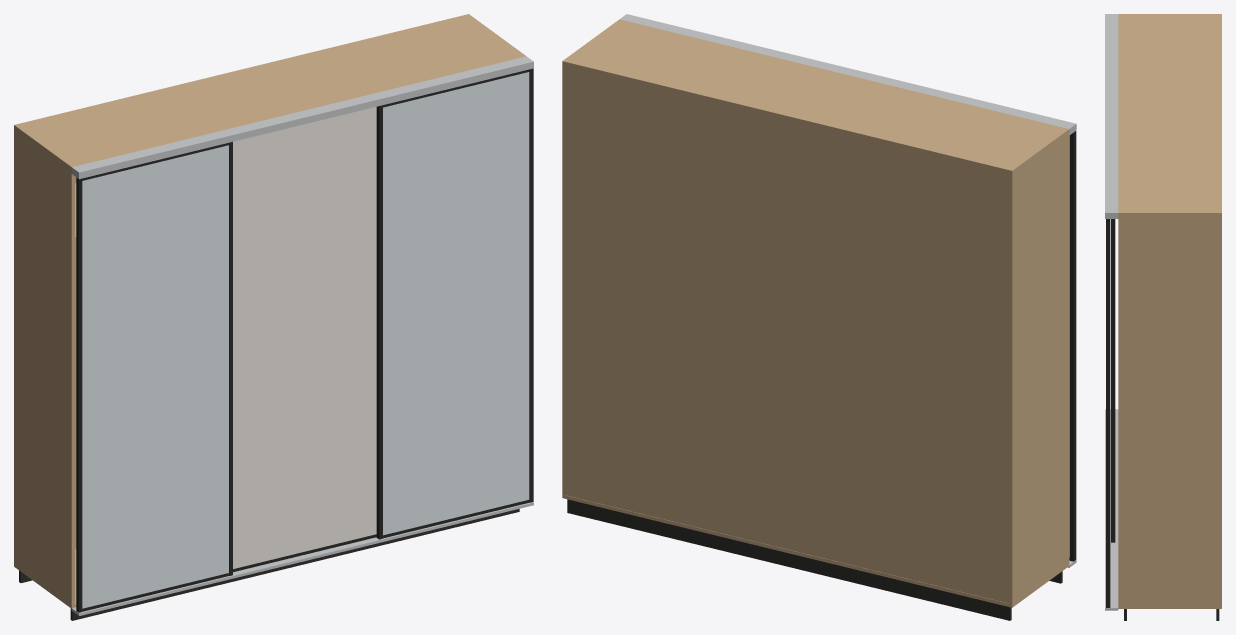
File: 13_szafa_przesuwna_250_lustra.glb
3 views of the same model, side by side, from view 1: azimuth 30°, elevation 25°; view 2: azimuth 150°, elevation 25°; view 3: azimuth 270°, elevation 25° (orthographic). The views are drawn at different scales.
Visible parts, largest first — view 1: Lustro_1, Lustro_3, Front_panel_2, Korpus, Uchwyty, Prowadnice, Cokol; view 2: Korpus, Cokol, Prowadnice, Uchwyty; view 3: Korpus, Prowadnice, Uchwyty.
Boxes of the visible parts, x1=… form: Lustro_1: x1=82, y1=145, x2=228, y2=608; Lustro_3: x1=383, y1=72, x2=529, y2=535; Front_panel_2: x1=233, y1=107, x2=376, y2=568; Korpus: x1=14, y1=14, x2=525, y2=608; Uchwyty: x1=76, y1=68, x2=533, y2=612; Prowadnice: x1=71, y1=56, x2=533, y2=615; Cokol: x1=19, y1=509, x2=519, y2=620; Korpus: x1=562, y1=19, x2=1069, y2=607; Cokol: x1=567, y1=499, x2=1062, y2=620; Prowadnice: x1=620, y1=14, x2=1076, y2=567; Uchwyty: x1=1069, y1=131, x2=1076, y2=561; Korpus: x1=1118, y1=14, x2=1221, y2=608; Prowadnice: x1=1105, y1=14, x2=1118, y2=610; Uchwyty: x1=1106, y1=219, x2=1115, y2=607.
Bounding box in the file's own units: 2.5 × 2.4 × 0.62.
